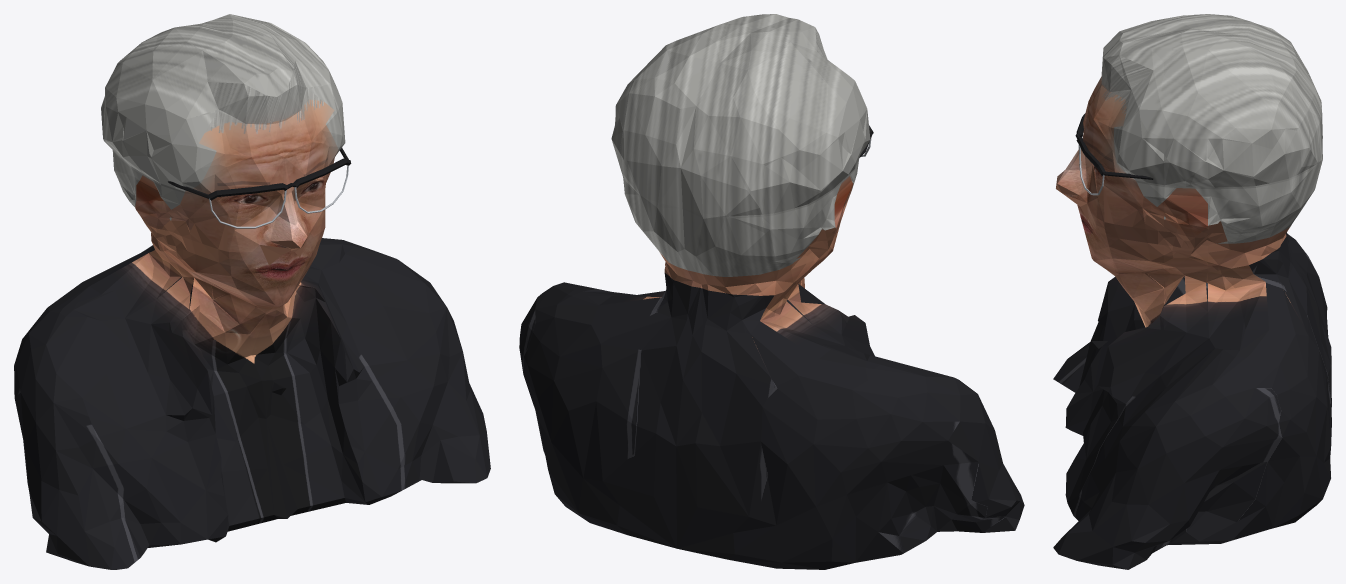
The model's file is jensen.glb.
The picture shows the model from 3 angles, left to right: view 1: azimuth 30°, elevation 25°; view 2: azimuth 150°, elevation 25°; view 3: azimuth 270°, elevation 25°; orthographic projection. The views are drawn at different scales.
Visible parts, largest first — view 1: jensen_n64; view 2: jensen_n64; view 3: jensen_n64.
Boxes of the visible parts, left/top/right/bottom form: jensen_n64: left=14, top=14, right=490, bottom=569; jensen_n64: left=519, top=14, right=1024, bottom=569; jensen_n64: left=1053, top=14, right=1331, bottom=569.
Size of the model in its own units: 2.3 by 2.2 by 1.26.
Materials: 3 (1 with a texture image).
